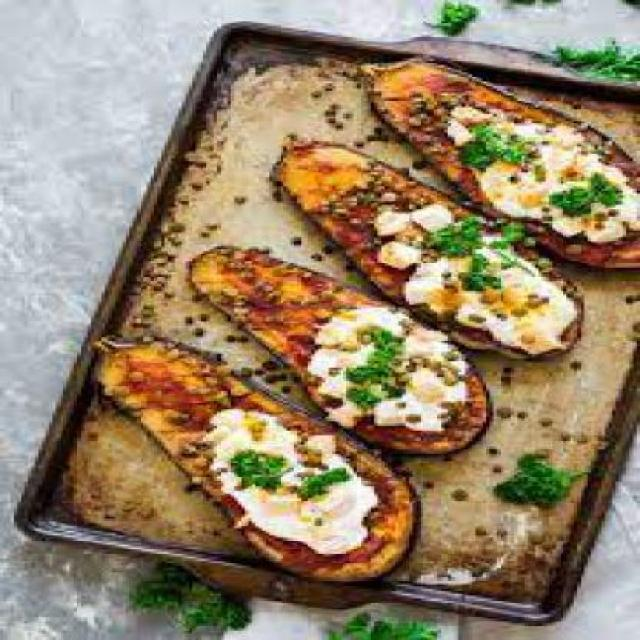eggplant: (98, 46, 636, 585)
hummus: (367, 202, 573, 360), (441, 98, 633, 253), (189, 407, 382, 555), (297, 303, 469, 431)
